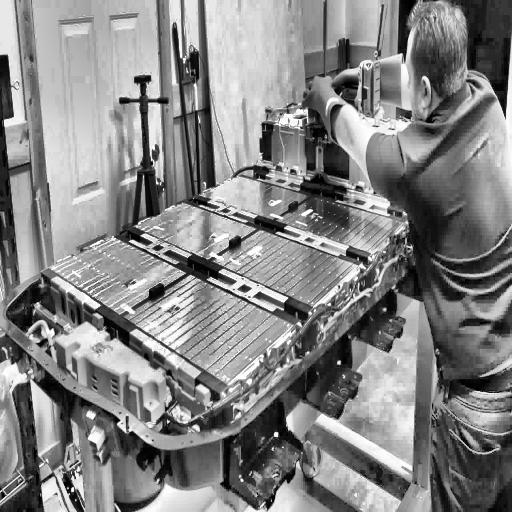battery_module: (124, 274, 294, 385), (211, 229, 359, 308), (49, 234, 188, 315), (274, 195, 405, 257), (133, 203, 256, 261), (198, 176, 309, 221)
high_volt_cable: (230, 249, 404, 417)
low_volt_cable: (148, 227, 407, 430)
